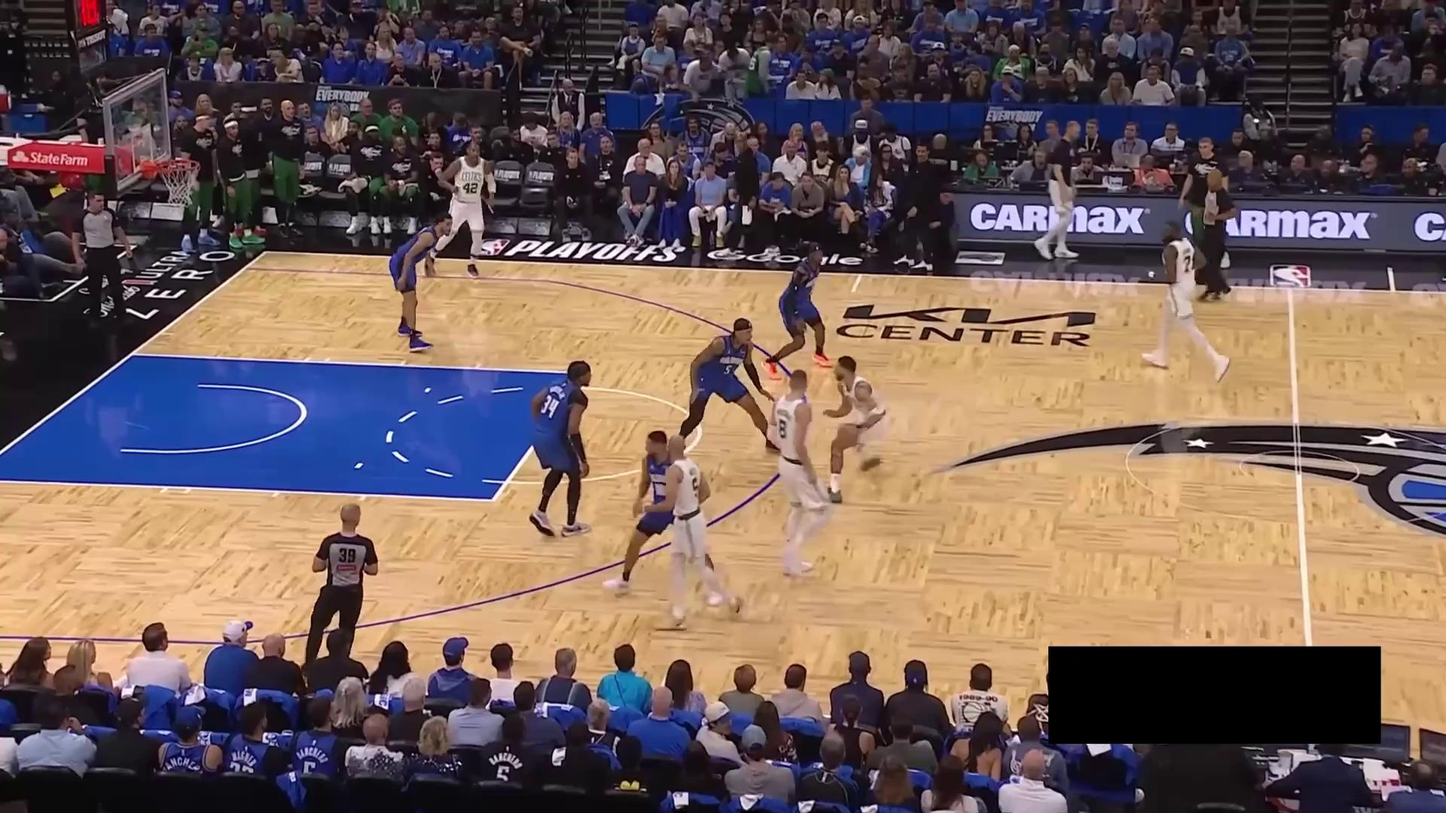ball: (837, 425, 858, 446)
number: (539, 393, 561, 421), (778, 418, 789, 441), (463, 182, 478, 194), (1183, 254, 1191, 273), (723, 365, 733, 375)
player: (598, 427, 730, 609), (637, 434, 749, 633), (1133, 217, 1233, 381), (675, 313, 787, 450), (523, 356, 601, 542), (765, 365, 831, 579), (760, 239, 837, 379), (424, 141, 497, 278), (389, 208, 455, 353)
player-in-possession: (821, 354, 892, 505)
referee: (300, 501, 380, 665), (71, 187, 132, 326), (1192, 163, 1243, 303)
rim: (158, 158, 201, 175)
